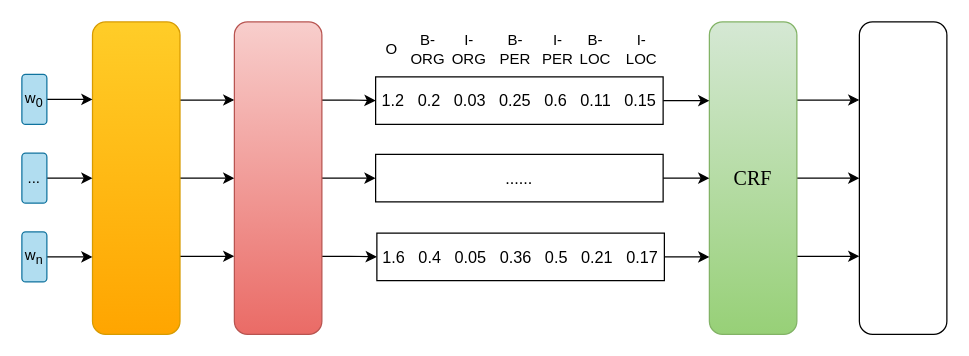
This 969x356 diagram has some shape labels left out. The shapes that lost their labels are listed below. From the top down, each one's box as (x1, y1, x2, y2) in pixels, then its label:
(91, 21, 180, 334): BERT
(233, 21, 322, 334): Linear
(858, 21, 947, 334): 标注序列评分
